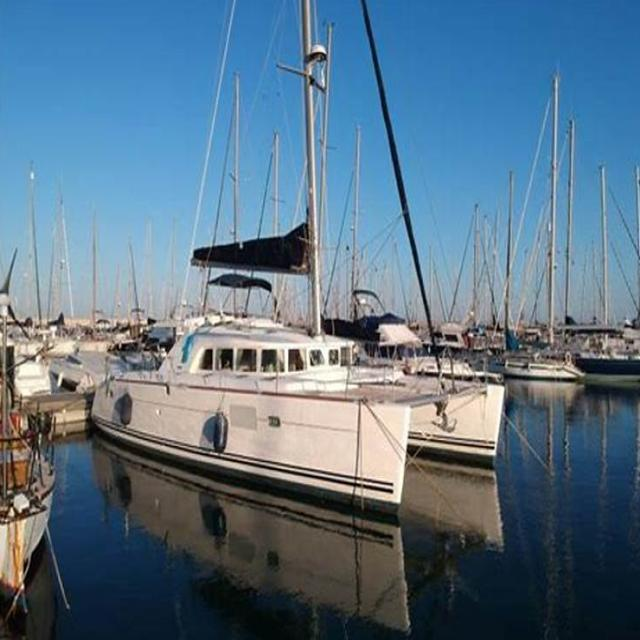houseboat: (74, 304, 401, 518)
